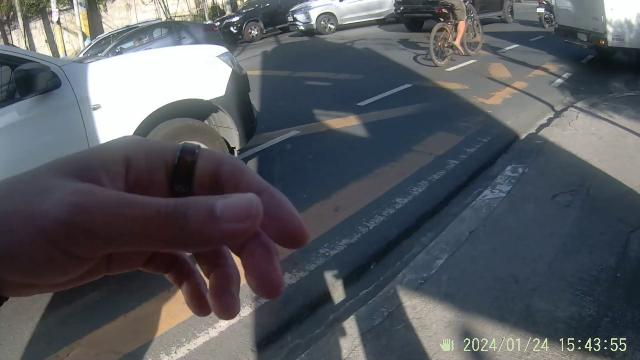cracked_pavement: (546, 174, 592, 214)
